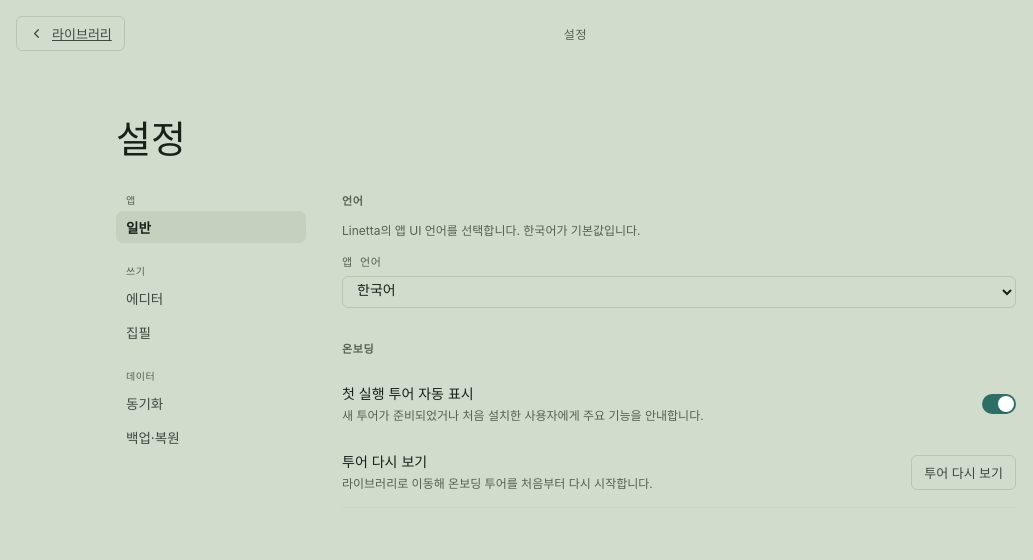
Test case: Settings › keeps the transcript export out of a library that never used the companion
Click the button with test id "settings-nav-backup": (211, 437) x1=116 y1=421 x2=306 y2=453
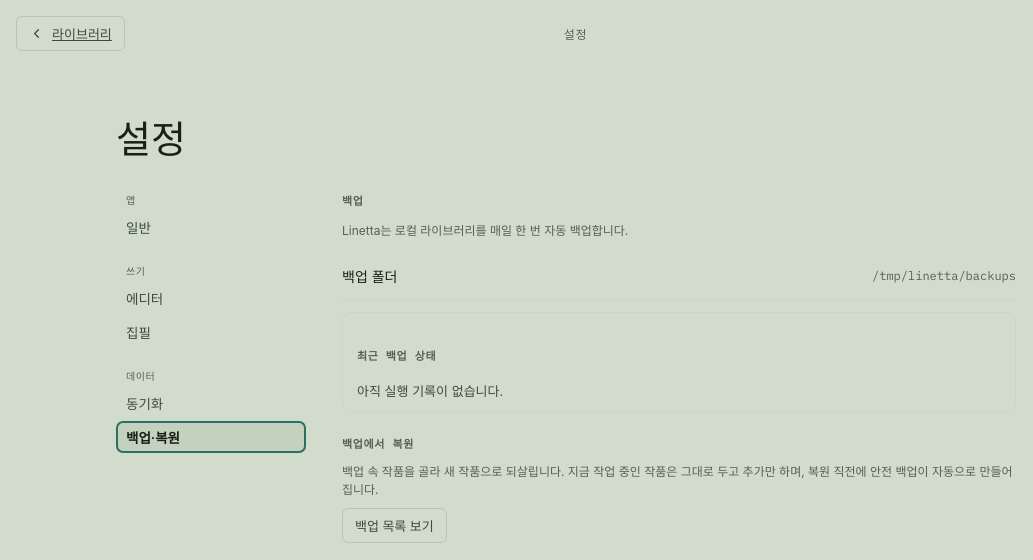
Check: the heading "최근 백업 상태" is shown, box x1=357 y1=347 x2=436 y2=363
